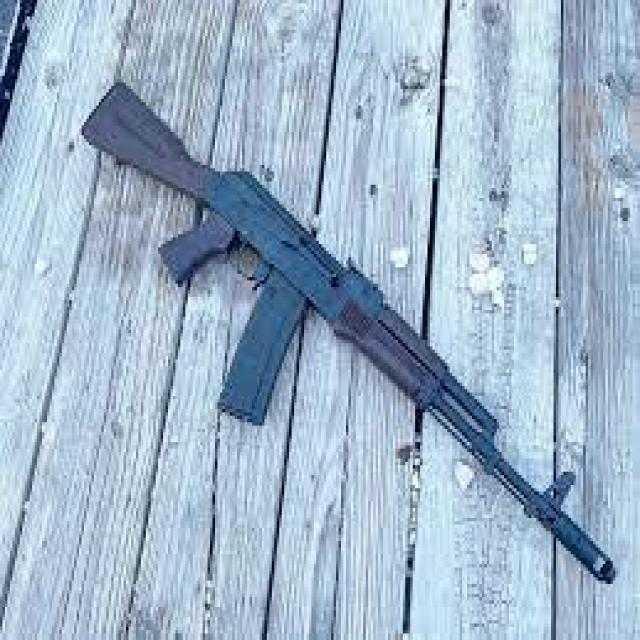weapon: (81, 79, 616, 586)
